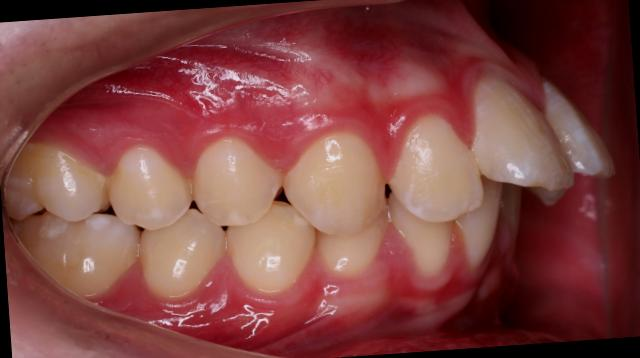canine class II 1/2: (218, 123, 394, 299)
molar class I: (0, 132, 145, 307)
